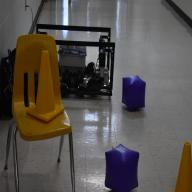cone: (26, 50, 65, 122), (175, 142, 192, 192)
cube: (105, 143, 139, 191), (122, 75, 146, 111)
